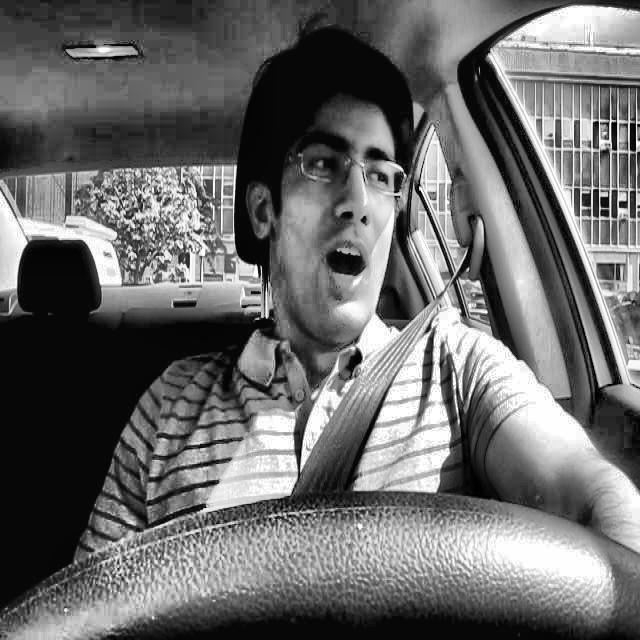open_eyes: (300, 147, 348, 187), (361, 157, 407, 198)
open_mouth: (311, 233, 388, 307)
